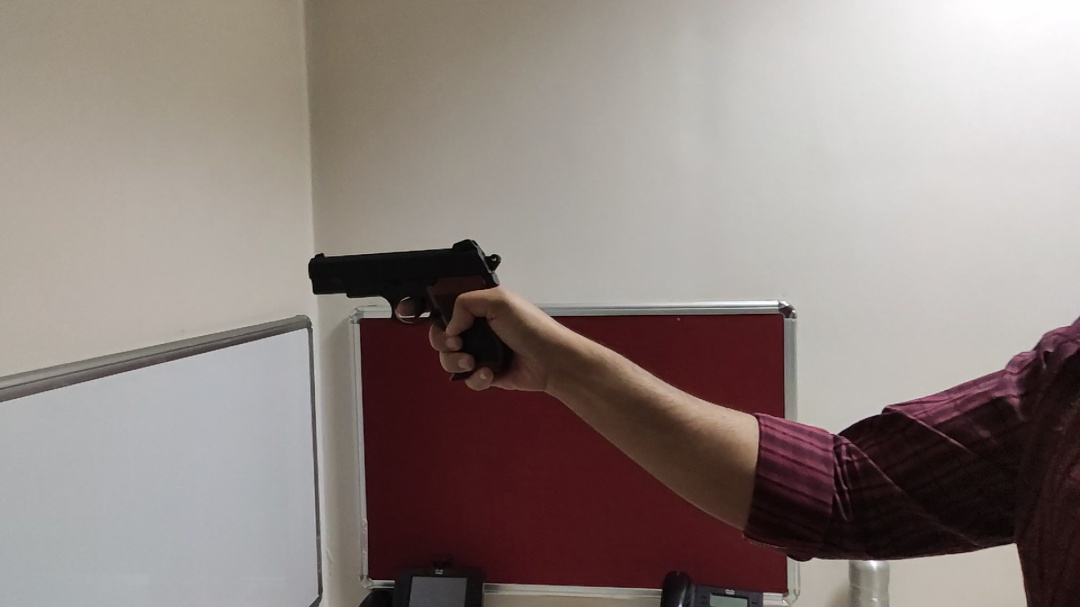gun: (304, 239, 517, 383)
